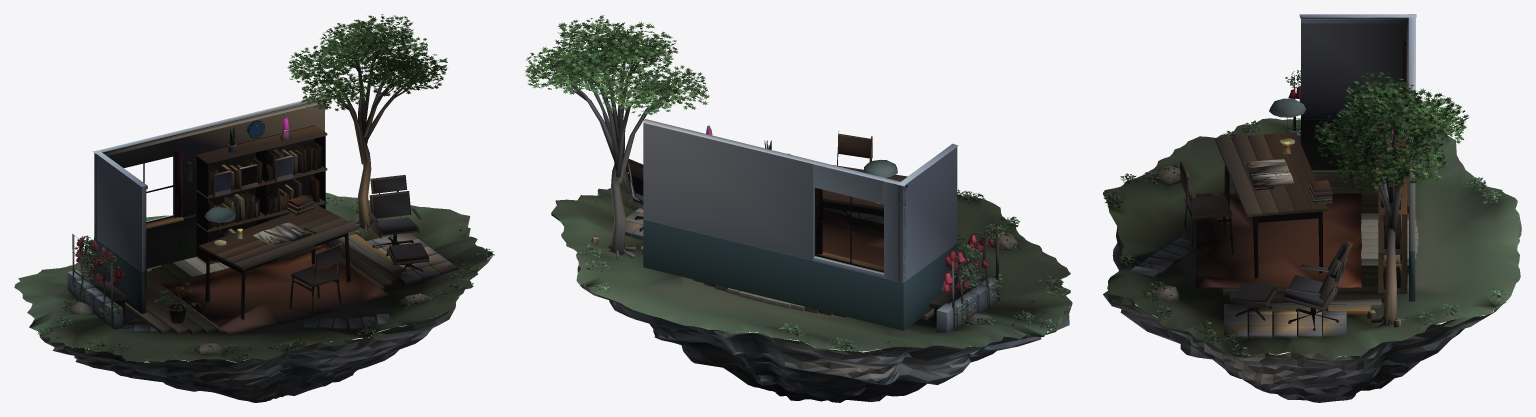
Rendered from flight-writing-adcdb577.glb.
3 renders of one model, left to right at view 1: azimuth 30°, elevation 25°; view 2: azimuth 150°, elevation 25°; view 3: azimuth 270°, elevation 25°, orthographic. The views are drawn at different scales.
Visible parts, largest first — view 1: Writing island · flight.001; view 2: Writing island · flight.001; view 3: Writing island · flight.001.
Boxes of the visible parts, x1,y1,x2,y2 form: Writing island · flight.001: (14,14,494,402); Writing island · flight.001: (525,15,1072,402); Writing island · flight.001: (1103,14,1521,402).
Bounding box in the file's own units: 11.76 × 8.12 × 8.15.
